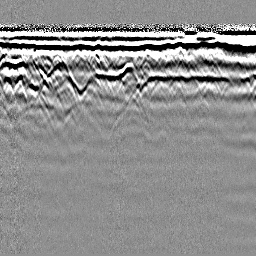cavity: (118, 61, 140, 84)
